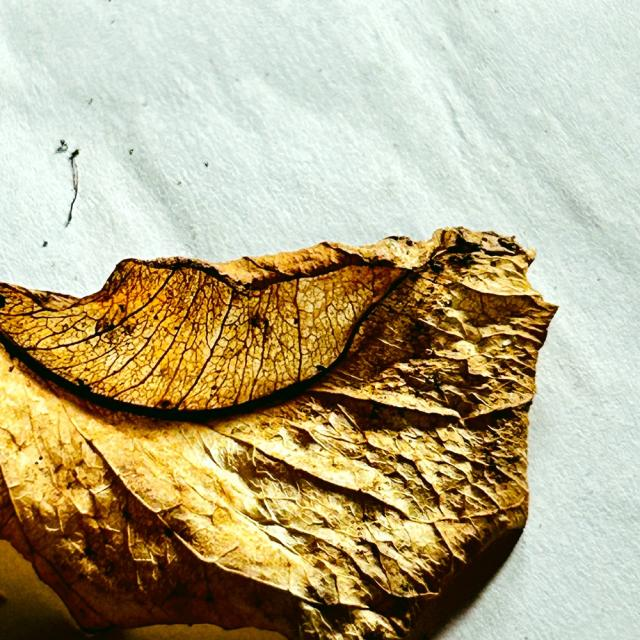DryLeaf_Lemon: (0, 228, 556, 639)
